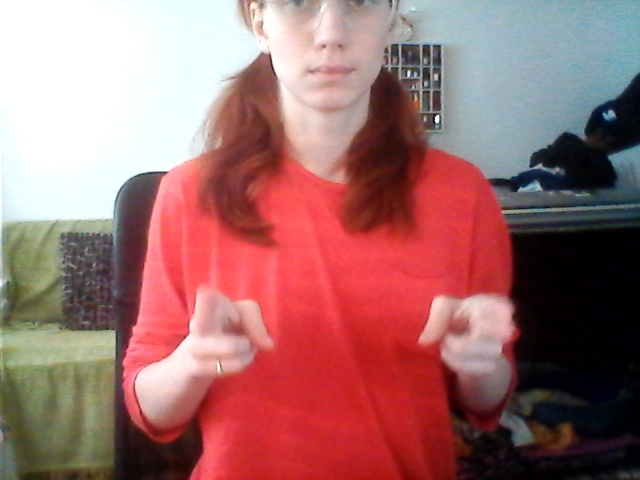ako: (183, 273, 519, 394)
